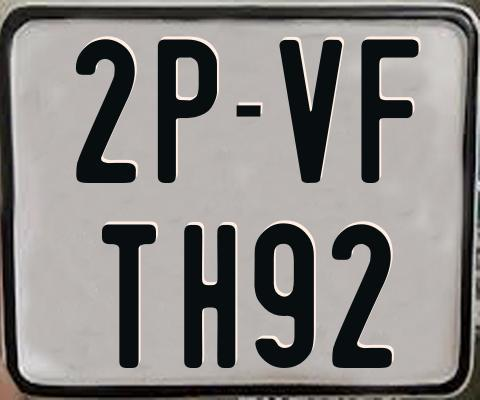2: (74, 38, 139, 187), (332, 224, 397, 372)
9: (253, 221, 319, 368)
F: (359, 37, 417, 183)
H: (181, 224, 232, 372)
P: (158, 39, 218, 189)
T: (99, 221, 155, 367)
V: (279, 39, 342, 182)
